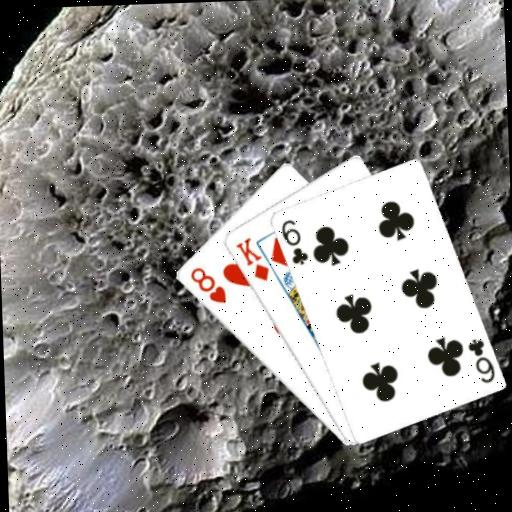6C: (463, 334, 496, 385), (277, 215, 309, 267)
8H: (186, 262, 227, 306)
KD: (231, 233, 270, 284)
